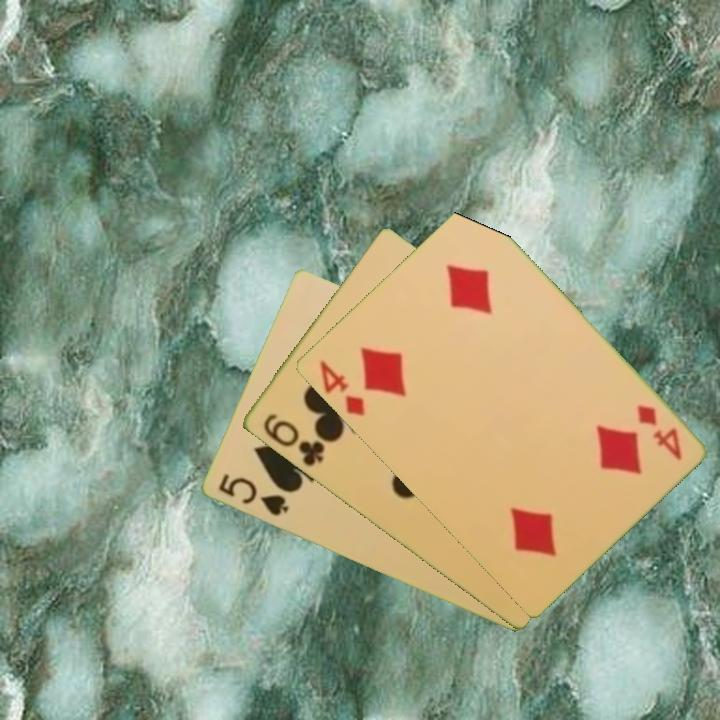4d: (315, 356, 368, 419), (633, 401, 684, 464)
5s: (214, 470, 291, 520)
6c: (259, 409, 328, 470)
